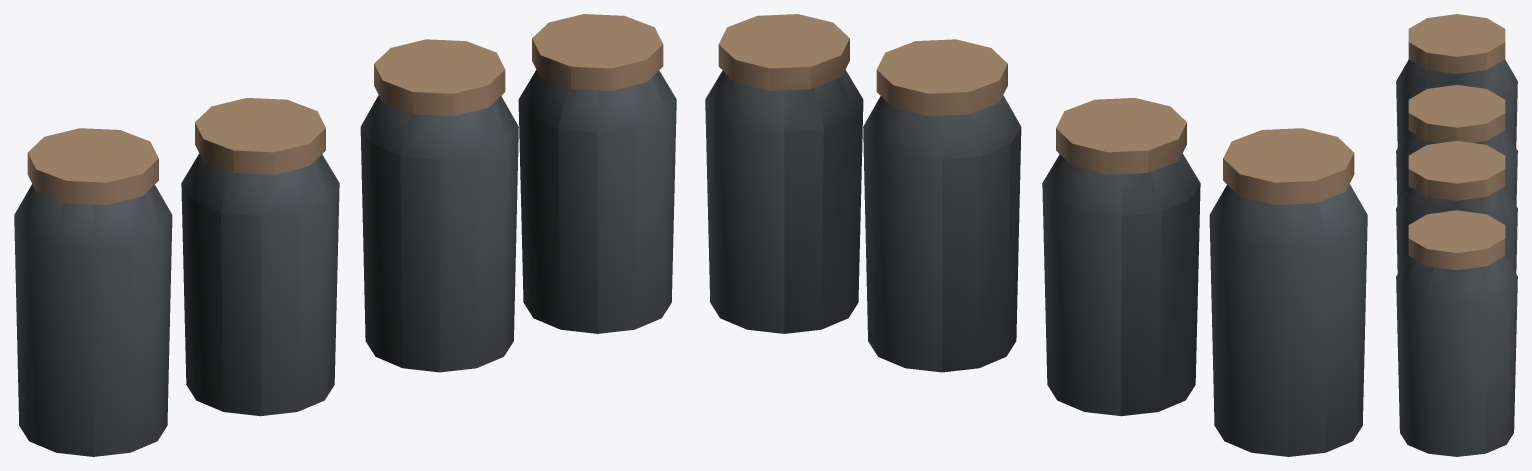
The model's file is jars.glb.
The picture shows the model from 3 angles, left to right: view 1: azimuth 30°, elevation 25°; view 2: azimuth 150°, elevation 25°; view 3: azimuth 270°, elevation 25°; orthographic projection. The views are drawn at different scales.
Visible parts, largest first — view 1: static; view 2: static; view 3: static.
Boxes of the visible parts, x1,y1,x2,y2 form: static: (14, 14, 676, 456); static: (705, 14, 1367, 456); static: (1396, 14, 1517, 456).
Size of the model in its own units: 0.4493 by 0.1838 by 0.096.
